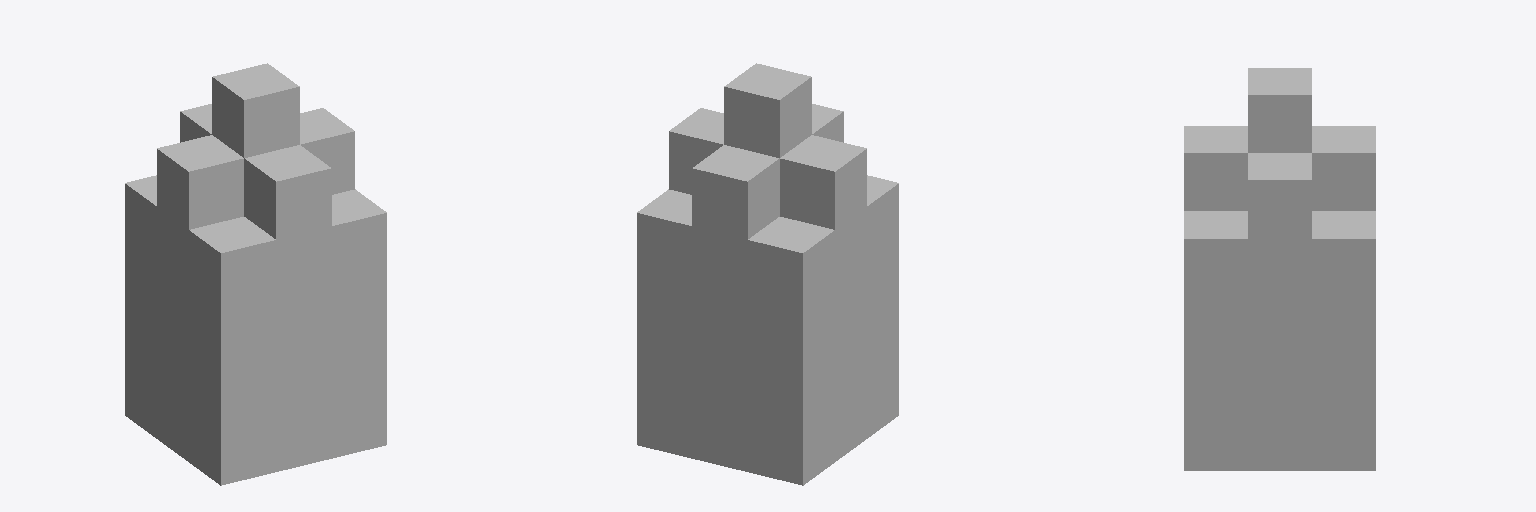
Rendered from Bunker - Free Sample-28-Bottle_Gray_Stripe-7.obj.
3 renders of one model, left to right at view 1: azimuth 30°, elevation 25°; view 2: azimuth 150°, elevation 25°; view 3: azimuth 270°, elevation 25°, orthographic.
Visible parts, largest first — view 1: Bottle_Gray_Stripe-7; view 2: Bottle_Gray_Stripe-7; view 3: Bottle_Gray_Stripe-7.
Boxes of the visible parts, x1=… form: Bottle_Gray_Stripe-7: x1=125, y1=63, x2=386, y2=485; Bottle_Gray_Stripe-7: x1=637, y1=63, x2=898, y2=485; Bottle_Gray_Stripe-7: x1=1184, y1=68, x2=1375, y2=470.
Size of the model in its own units: 0.06 by 0.12 by 0.06.